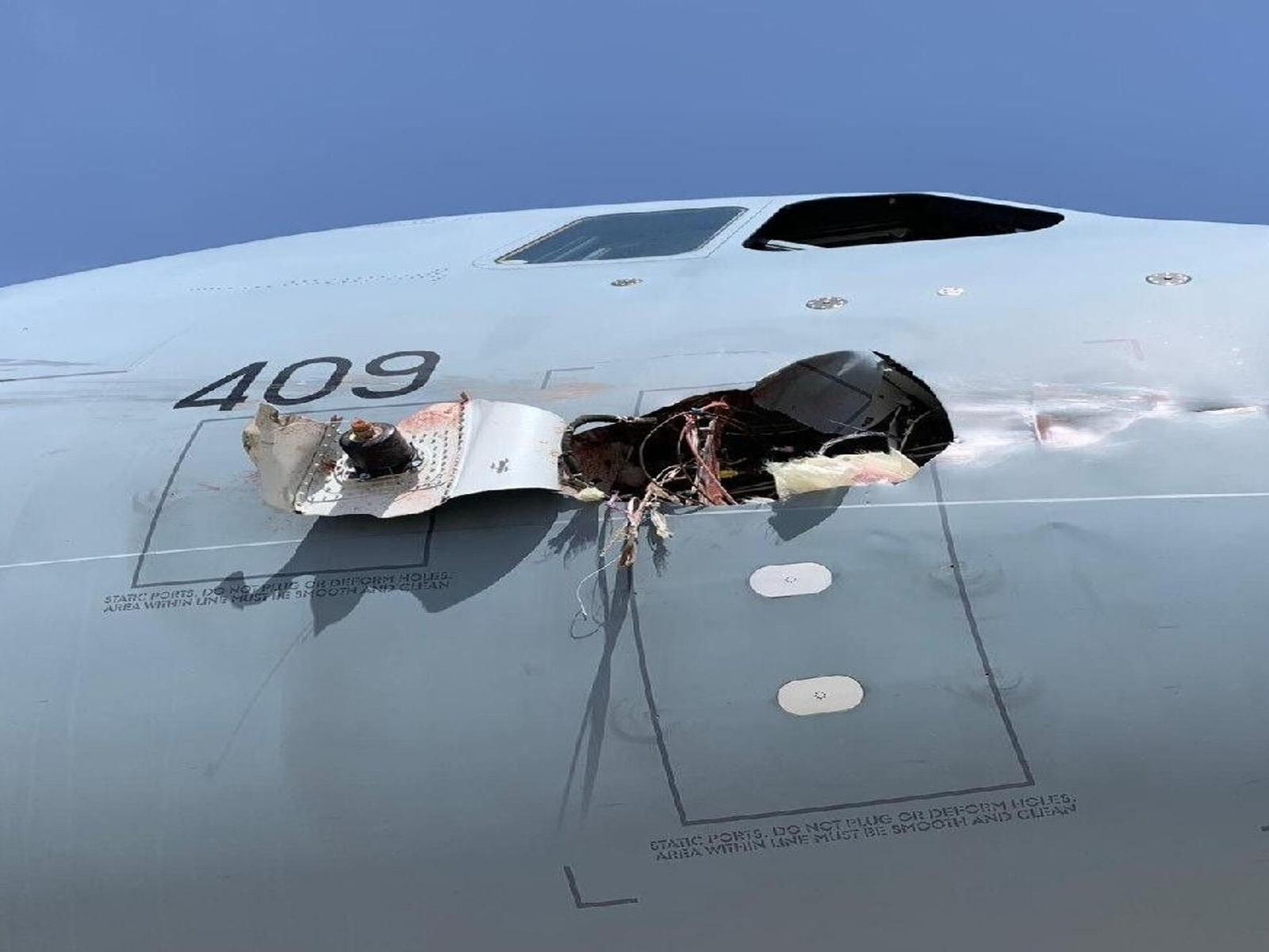Fuselage_damage: (560, 351, 954, 561), (241, 396, 573, 518)
Skin_Cover: (1033, 410, 1135, 446), (1188, 401, 1250, 413)
